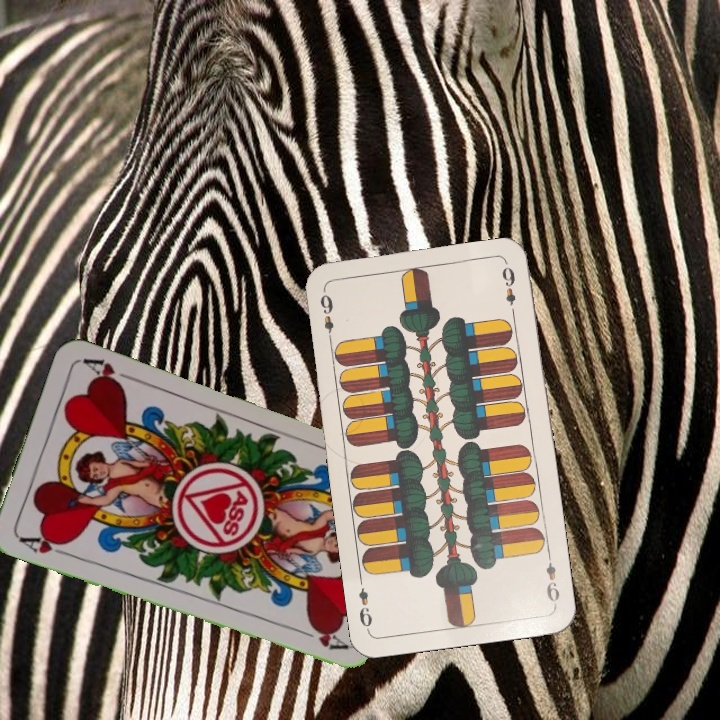E9: (541, 549, 562, 608), (316, 286, 337, 345)
HA: (15, 529, 73, 559)
